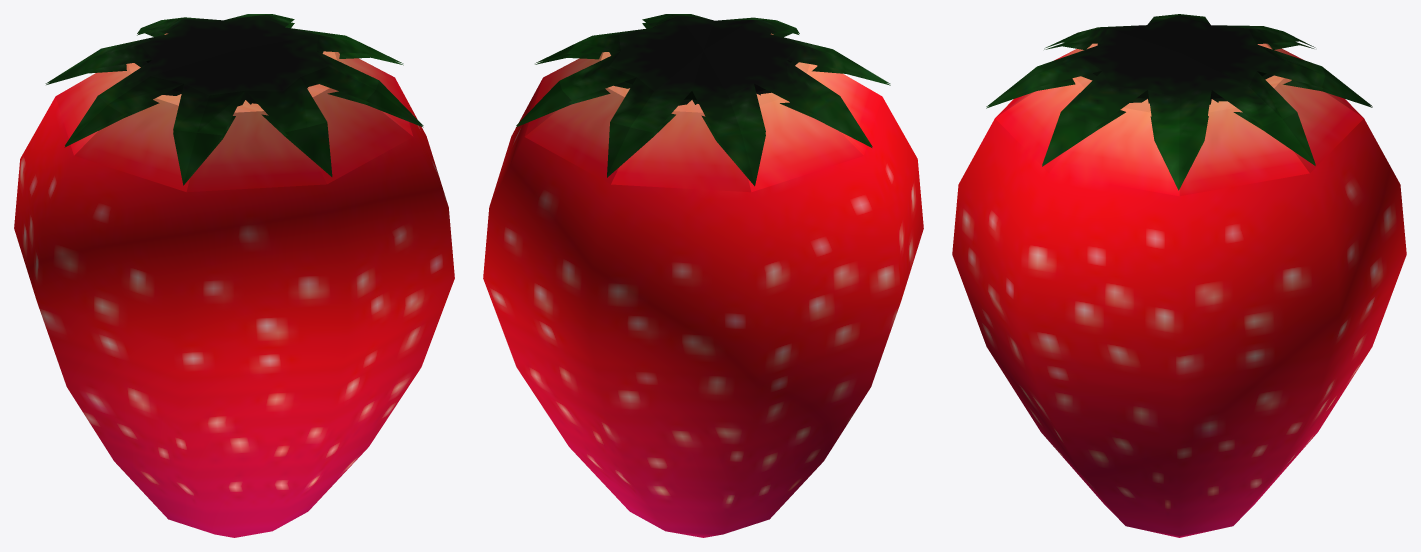
The model's file is slime1.ico.obj.
3 views of the same model, side by side, from view 1: azimuth 30°, elevation 25°; view 2: azimuth 150°, elevation 25°; view 3: azimuth 270°, elevation 25° (orthographic).
Size of the model in its own units: 2.85 by 3.36 by 2.85.
Materials: 1 (1 with a texture image).
